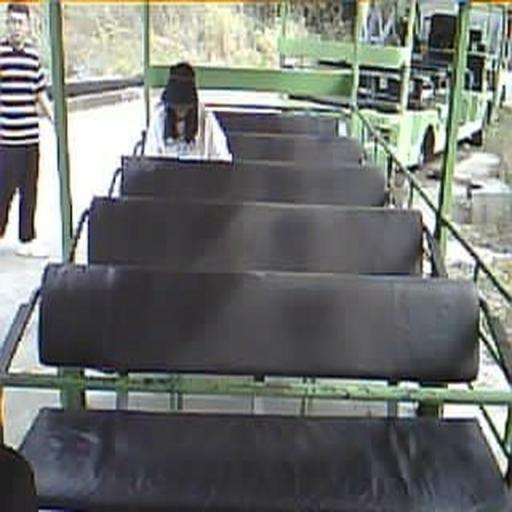persona: (0, 2, 54, 256), (142, 61, 234, 164)
